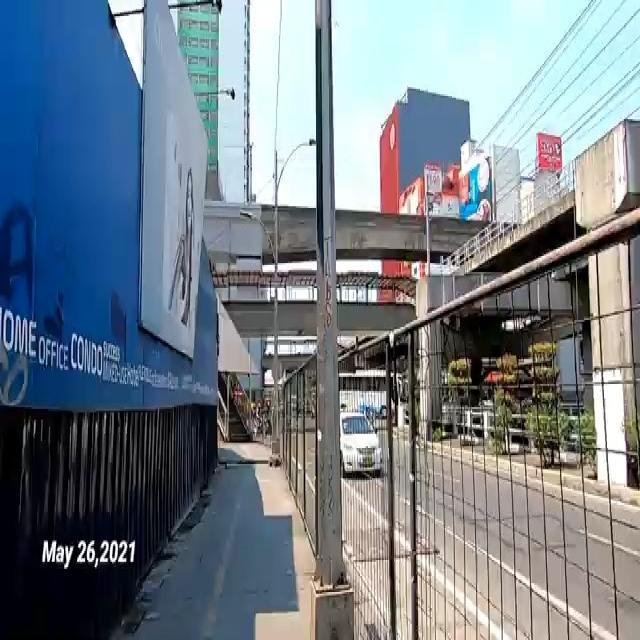bus: (338, 368, 401, 419)
car: (339, 410, 384, 480)
